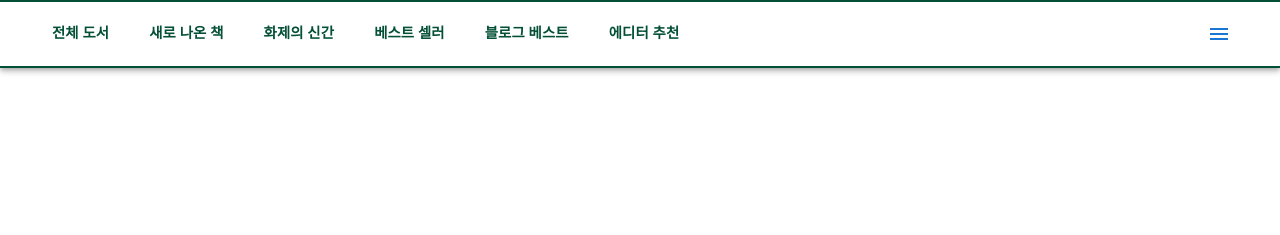
Test case: CategoryBar › toggles category visibility when the menu icon is clicked
Click the button with test id "menu-icon" at (1219, 34), box x1=1194 y1=9 x2=1244 y2=59
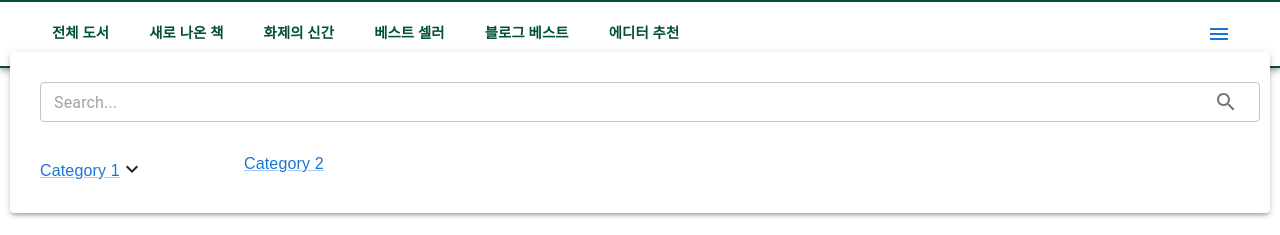
expect the field with placeholder "Search..." is shown: met, box x1=40 y1=82 x2=1198 y2=122
